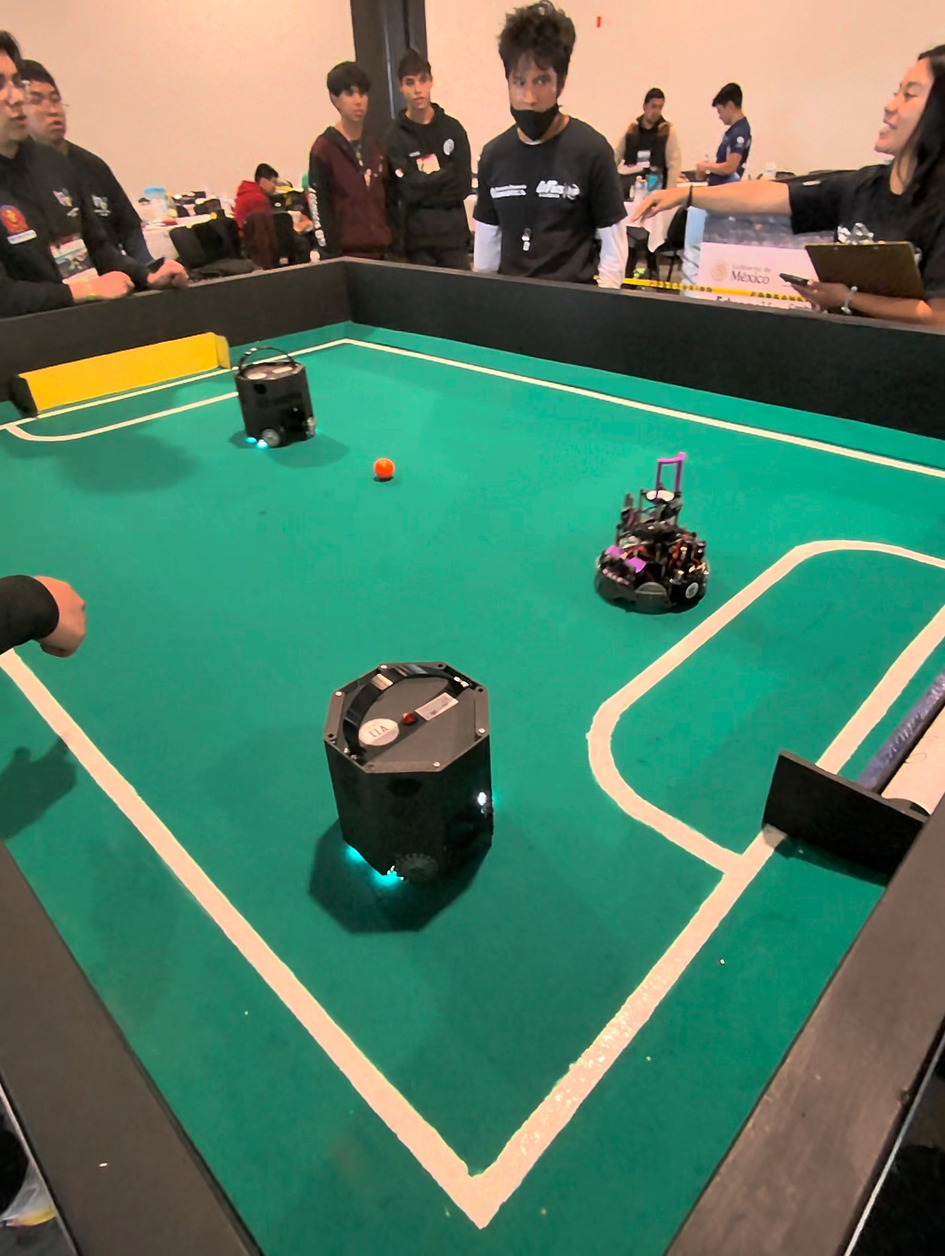Robot: (316, 619, 497, 940), (591, 457, 709, 619), (235, 348, 330, 465)
pelota: (373, 460, 395, 482)
